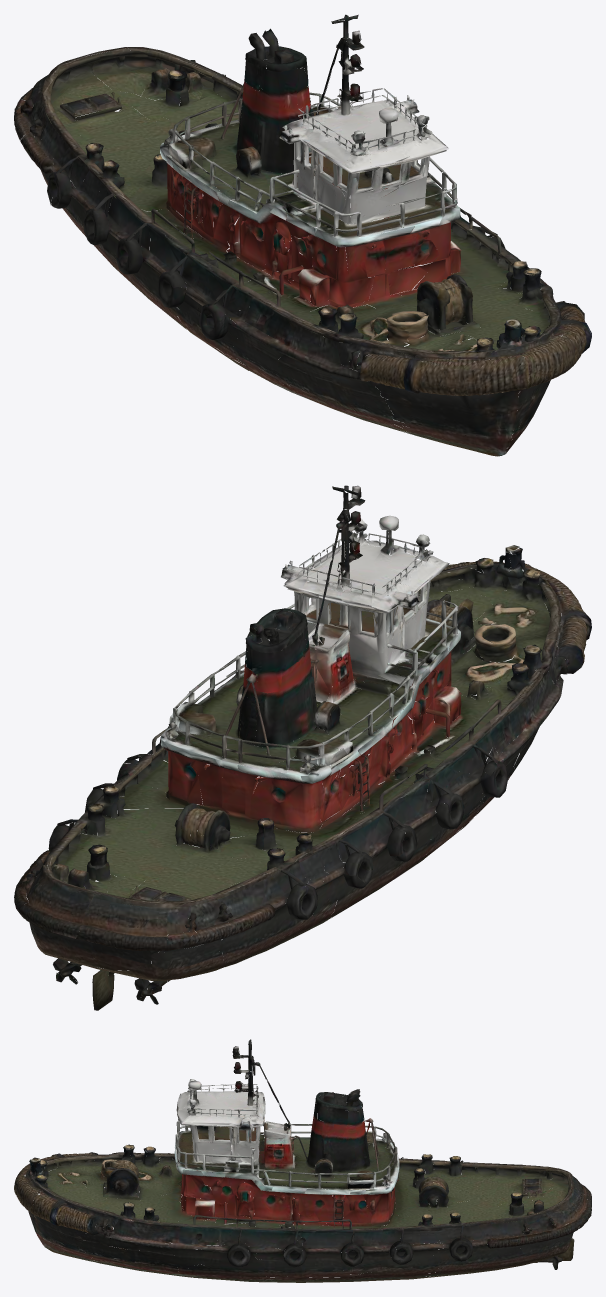
Rendered from h_tug.glb.
3 views of the same model, one above another, from view 1: azimuth 30°, elevation 25°; view 2: azimuth 150°, elevation 25°; view 3: azimuth 270°, elevation 25° (orthographic). The views are drawn at different scales.
Visible parts, largest first — view 1: tripo_node_651ebf0c-2676-4ee0-b689-15eb897aca77; view 2: tripo_node_651ebf0c-2676-4ee0-b689-15eb897aca77; view 3: tripo_node_651ebf0c-2676-4ee0-b689-15eb897aca77.
Part boxes in pixels (x1,y1,x2,y2): tripo_node_651ebf0c-2676-4ee0-b689-15eb897aca77: (14, 14, 591, 456); tripo_node_651ebf0c-2676-4ee0-b689-15eb897aca77: (14, 485, 591, 1010); tripo_node_651ebf0c-2676-4ee0-b689-15eb897aca77: (14, 1039, 591, 1282).
Bounding box in the file's own units: 0.3705 × 0.4108 × 0.9796.
1 material, 1 textured.
